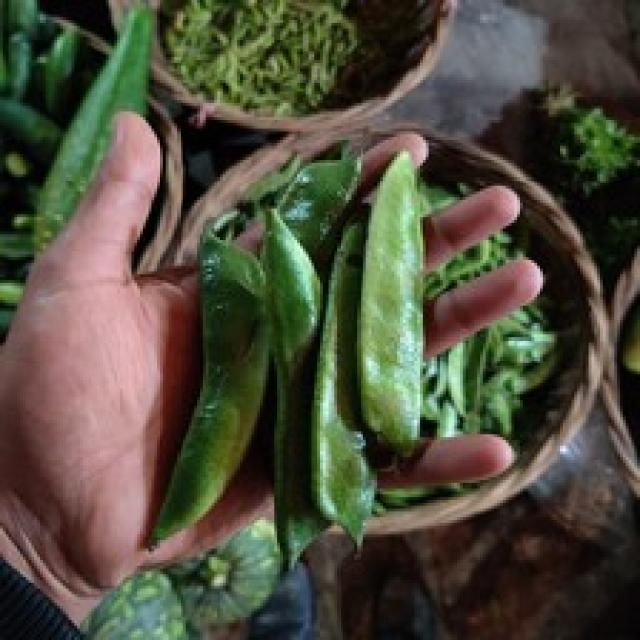Bean: (172, 154, 426, 512)
